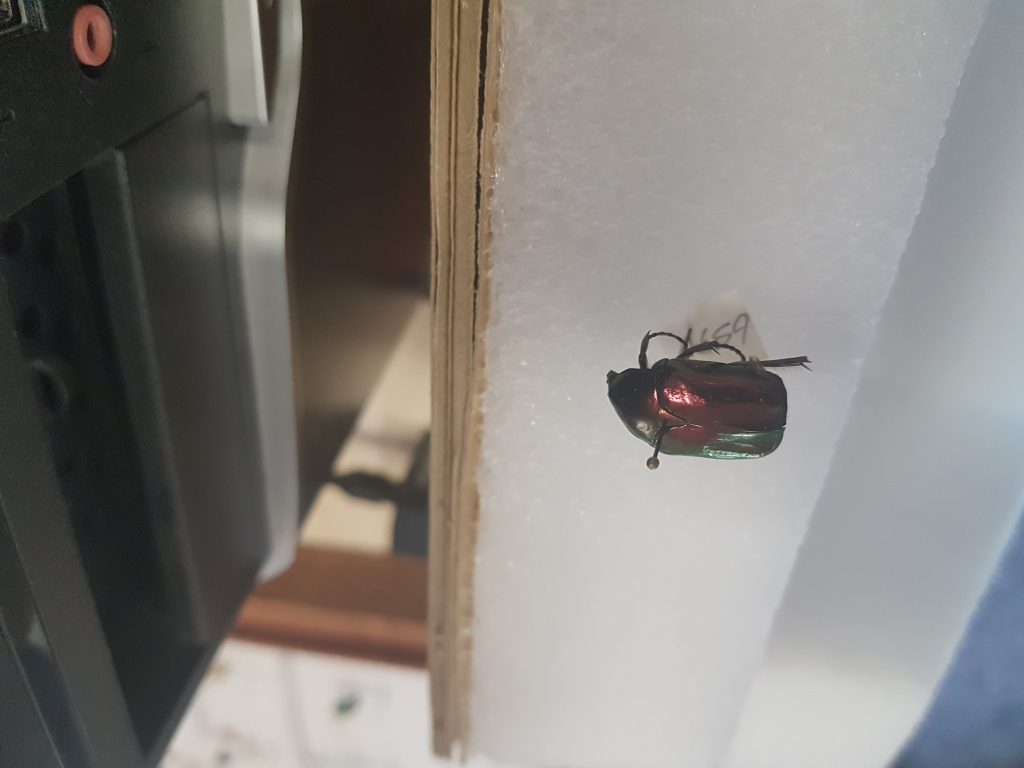Protaetia_cuprea_ignicollis: (605, 326, 808, 462)
